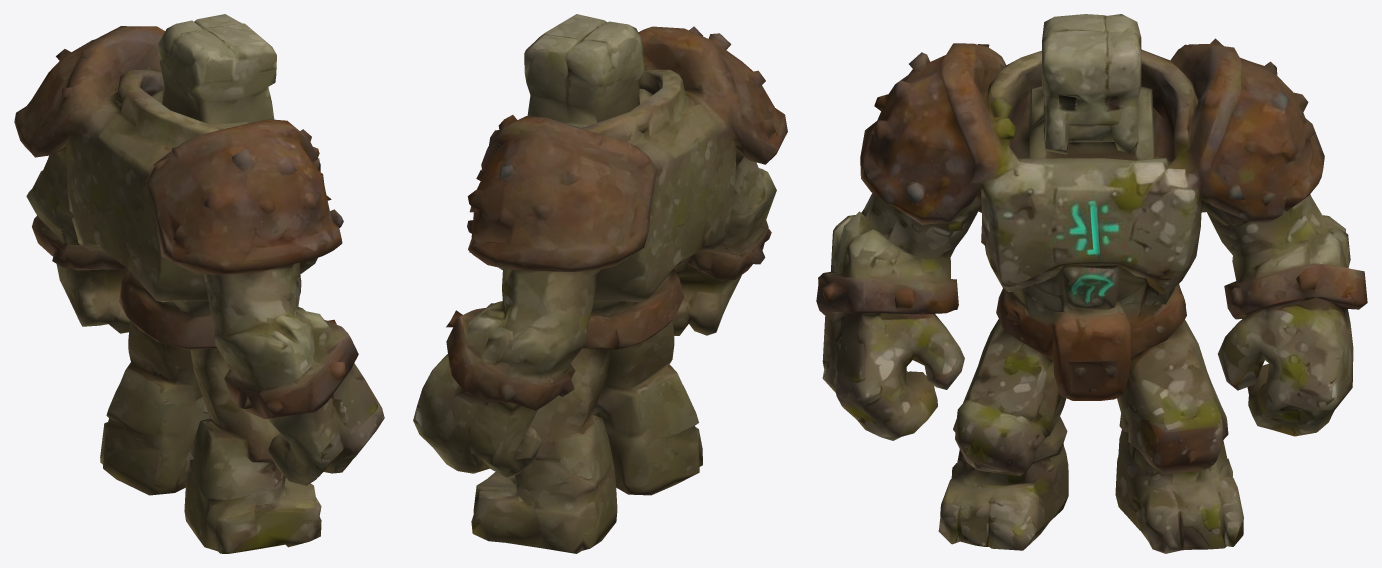
Rendered from stone_guard.glb.
3 renders of one model, left to right at view 1: azimuth 30°, elevation 25°; view 2: azimuth 150°, elevation 25°; view 3: azimuth 270°, elevation 25°, orthographic. The views are drawn at different scales.
Parts seen in each view (by area): view 1: tripo_node_d993c746-a08d-4474-bd03-74ae642d58df; view 2: tripo_node_d993c746-a08d-4474-bd03-74ae642d58df; view 3: tripo_node_d993c746-a08d-4474-bd03-74ae642d58df.
Part boxes in pixels (x1,y1,x2,y2): tripo_node_d993c746-a08d-4474-bd03-74ae642d58df: (14, 14, 384, 553); tripo_node_d993c746-a08d-4474-bd03-74ae642d58df: (413, 14, 787, 553); tripo_node_d993c746-a08d-4474-bd03-74ae642d58df: (816, 14, 1367, 553).
Bounding box in the file's own units: 0.4217 × 0.9945 × 1.
1 material, 1 textured.
